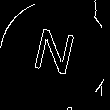N_S: (30, 26, 80, 84)
